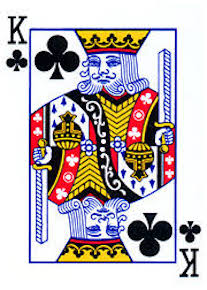KingOfClubs: (2, 3, 205, 287)
